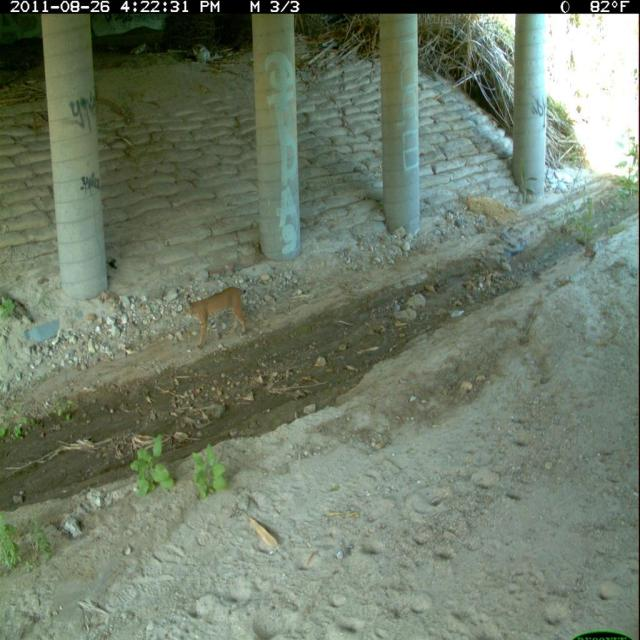bobcat: (180, 282, 251, 354)
